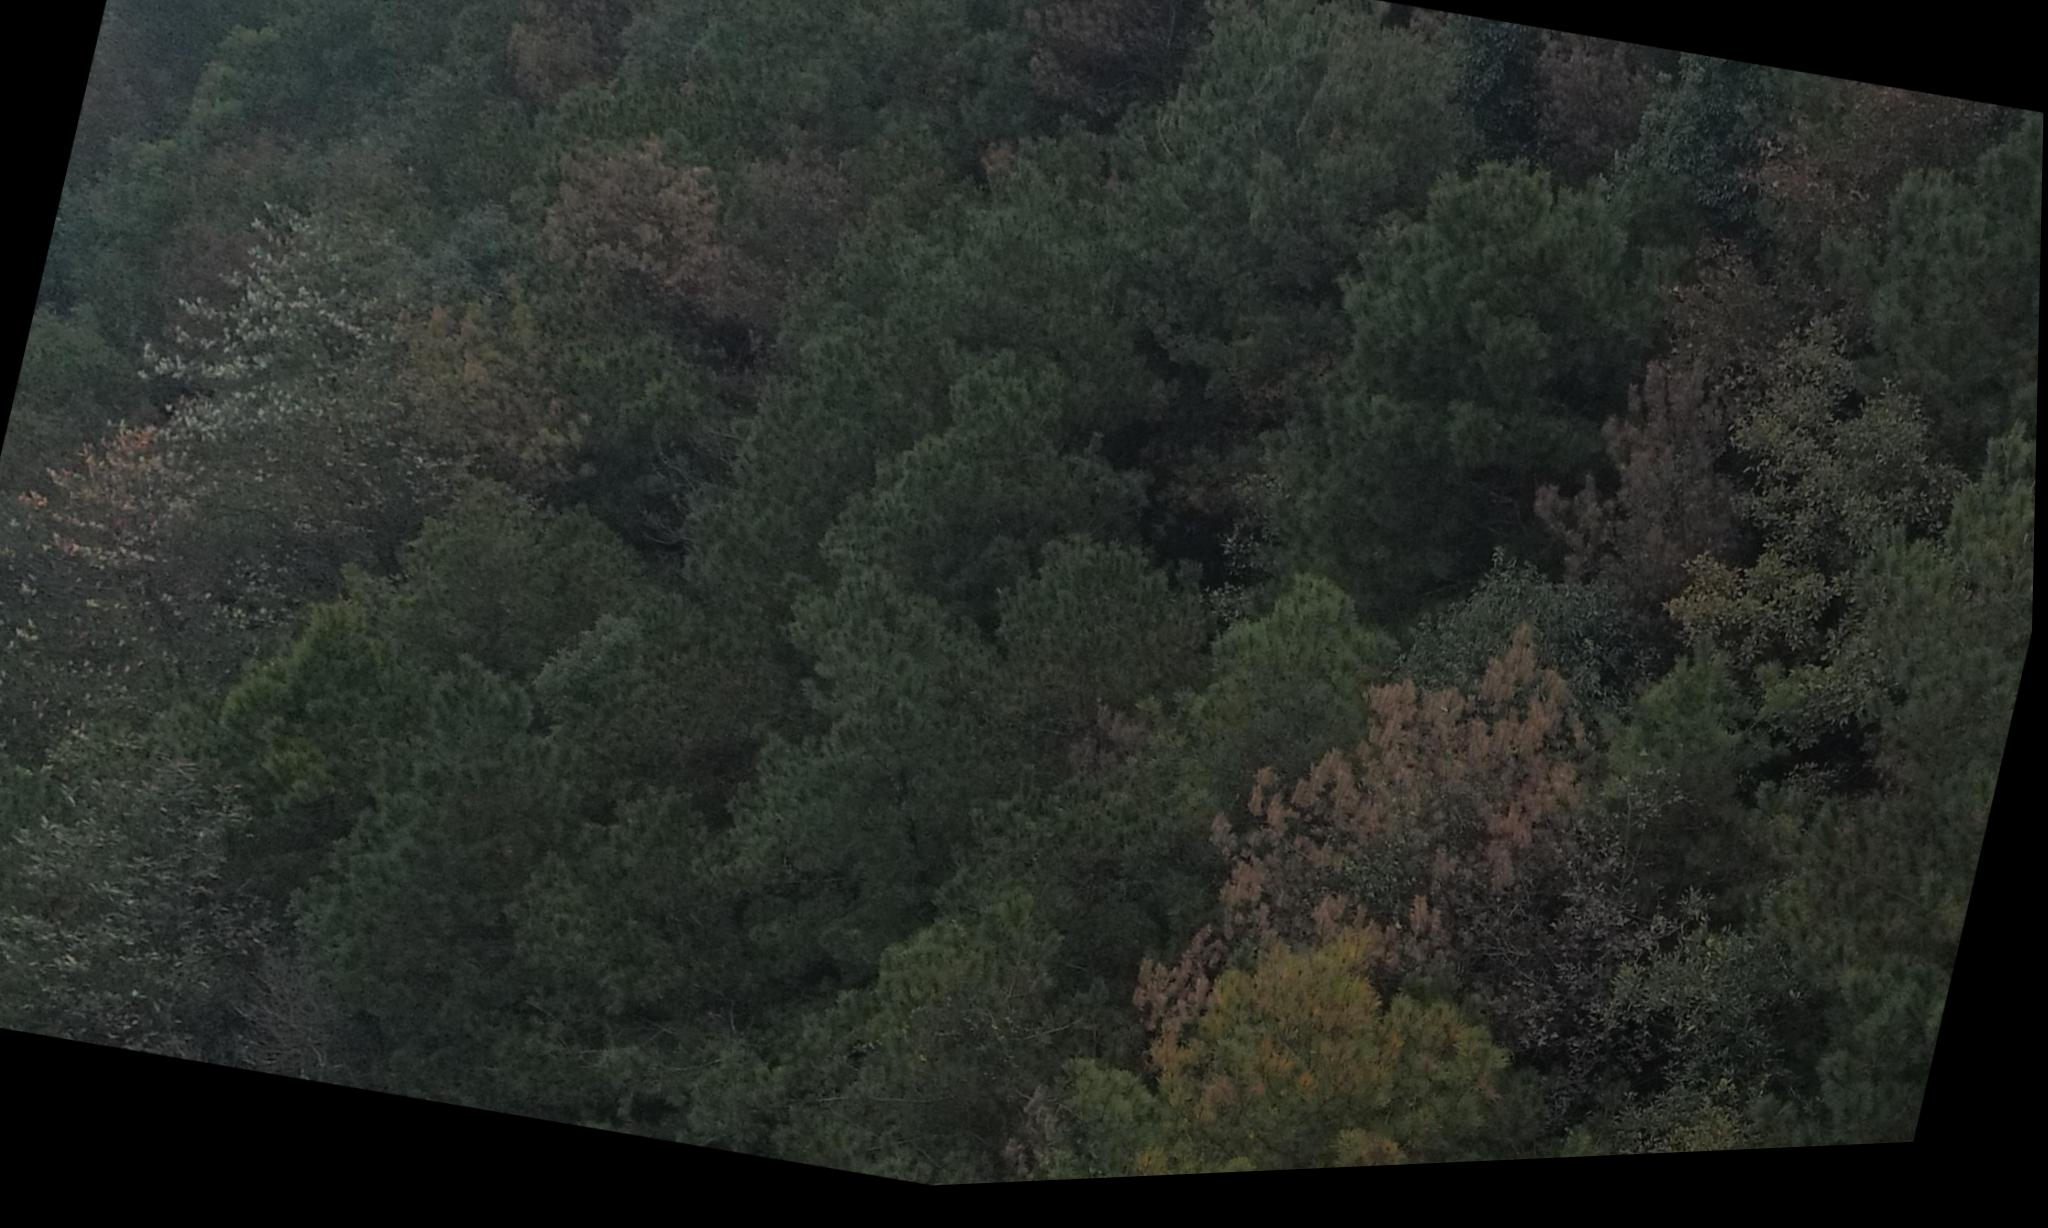heavy: (1225, 585, 1631, 966), (1526, 361, 1756, 595), (1003, 0, 1206, 153)
light: (1150, 920, 1544, 1187)
